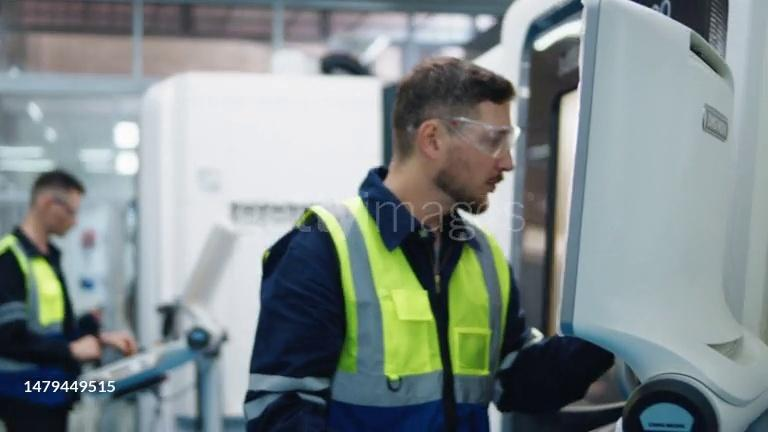person: (238, 54, 614, 427), (1, 169, 137, 432)
